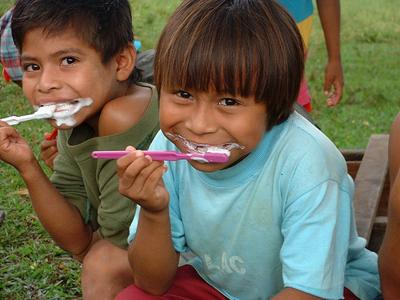person: (116, 6, 383, 300)
